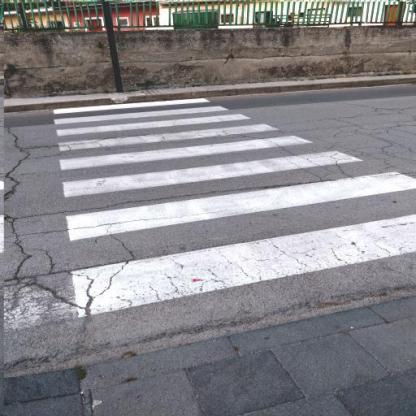crosswalk: (50, 134, 395, 202), (43, 96, 279, 126)
